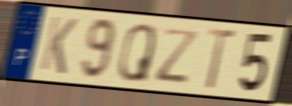5: (238, 33, 273, 95)
9: (80, 17, 117, 82)
K: (38, 14, 80, 77)
Q: (117, 21, 157, 84)
T: (204, 26, 239, 92)
Z: (154, 26, 202, 86)
